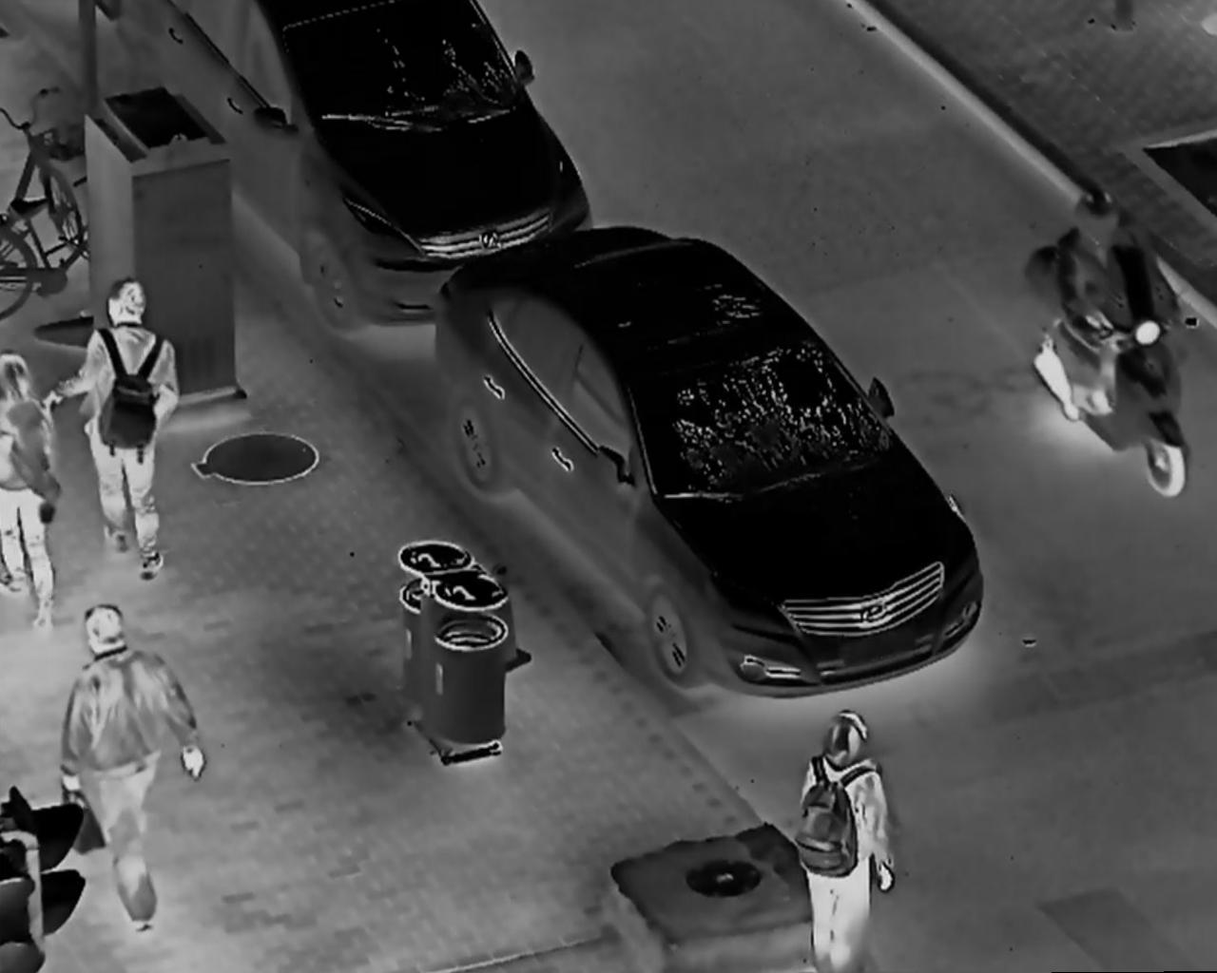person: (55, 601, 209, 936), (57, 276, 193, 581), (789, 704, 914, 973), (1046, 179, 1180, 429)
